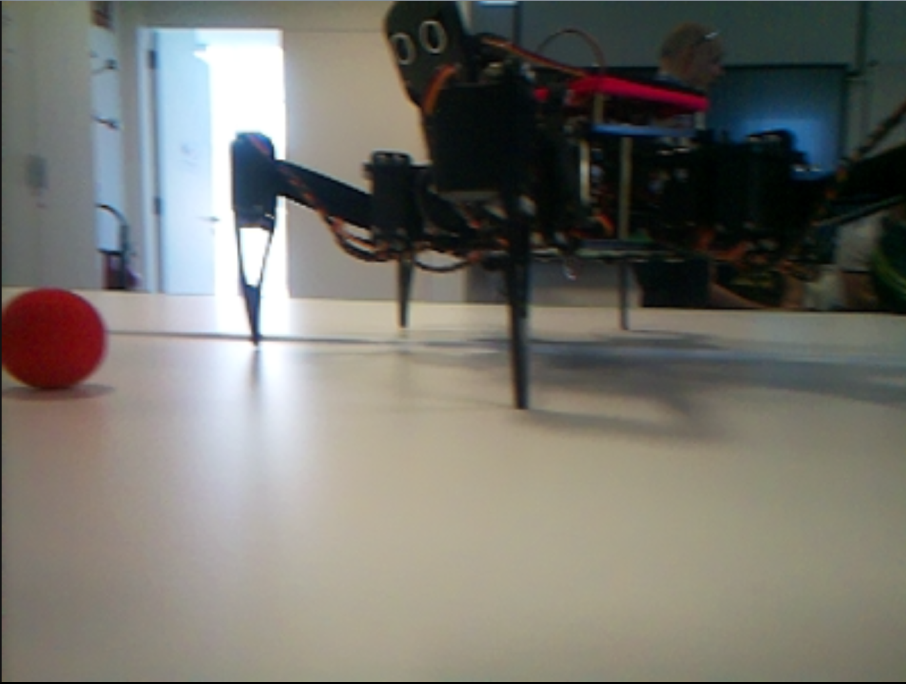bola_cerca: (0, 283, 108, 395)
hexapodo_propio: (230, 0, 906, 412)
